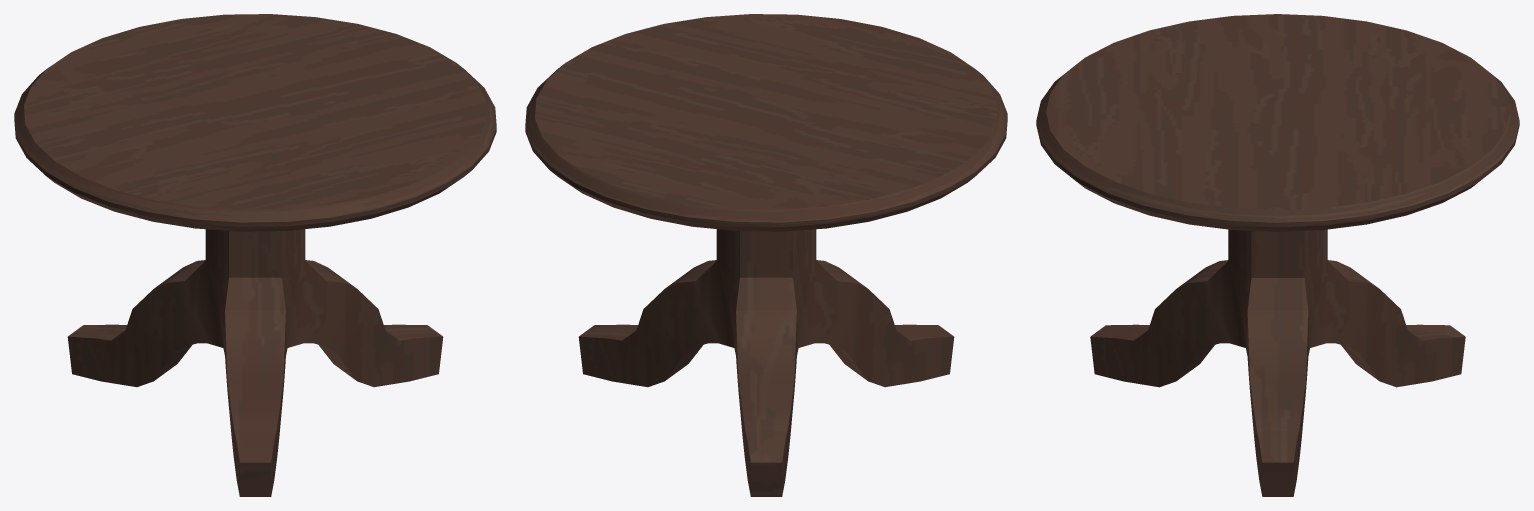
The model's file is STFtable.glb.
3 views of the same model, side by side, from view 1: azimuth 30°, elevation 25°; view 2: azimuth 150°, elevation 25°; view 3: azimuth 270°, elevation 25° (orthographic).
Parts seen in each view (by area): view 1: STFtable; view 2: STFtable; view 3: STFtable.
Boxes of the visible parts, bbox=[...] form: STFtable: bbox=[14, 14, 496, 496]; STFtable: bbox=[525, 14, 1007, 496]; STFtable: bbox=[1036, 14, 1519, 496].
Size of the model in its own units: 1 by 0.6831 by 1.
Materials: 1 (1 with a texture image).
